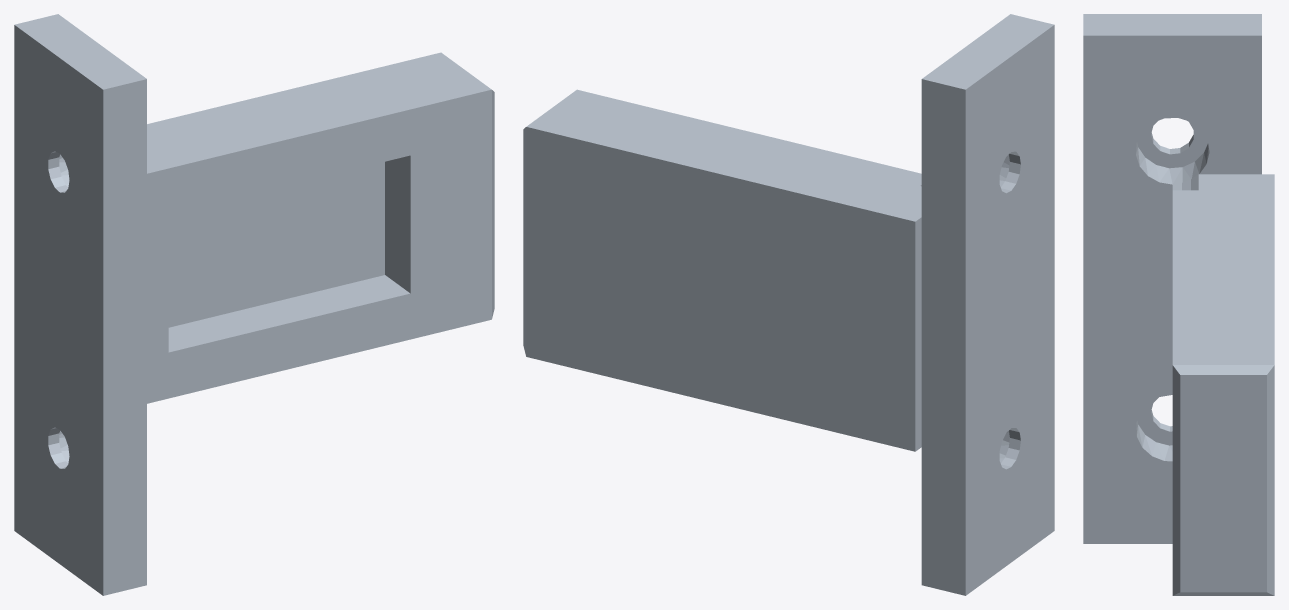
The picture shows the model from 3 angles, left to right: view 1: azimuth 30°, elevation 25°; view 2: azimuth 150°, elevation 25°; view 3: azimuth 270°, elevation 25°; orthographic projection.
Parts seen in each view (by area): view 1: part_015; view 2: part_015; view 3: part_015.
Boxes of the visible parts, x1,y1,x2,y2 form: part_015: (14,14,494,595); part_015: (523,14,1054,595); part_015: (1083,14,1274,595).
Bounding box in the file's own units: 0.04 × 0.015 × 0.044.
